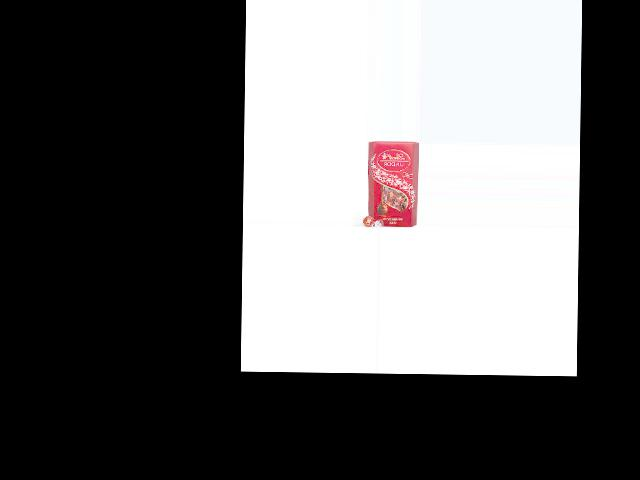chocolate: (362, 141, 418, 227)
